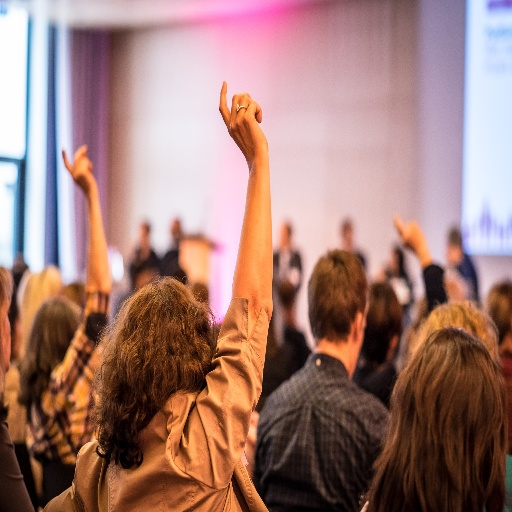hand: (224, 84, 268, 145), (392, 211, 429, 258), (62, 142, 96, 193)
